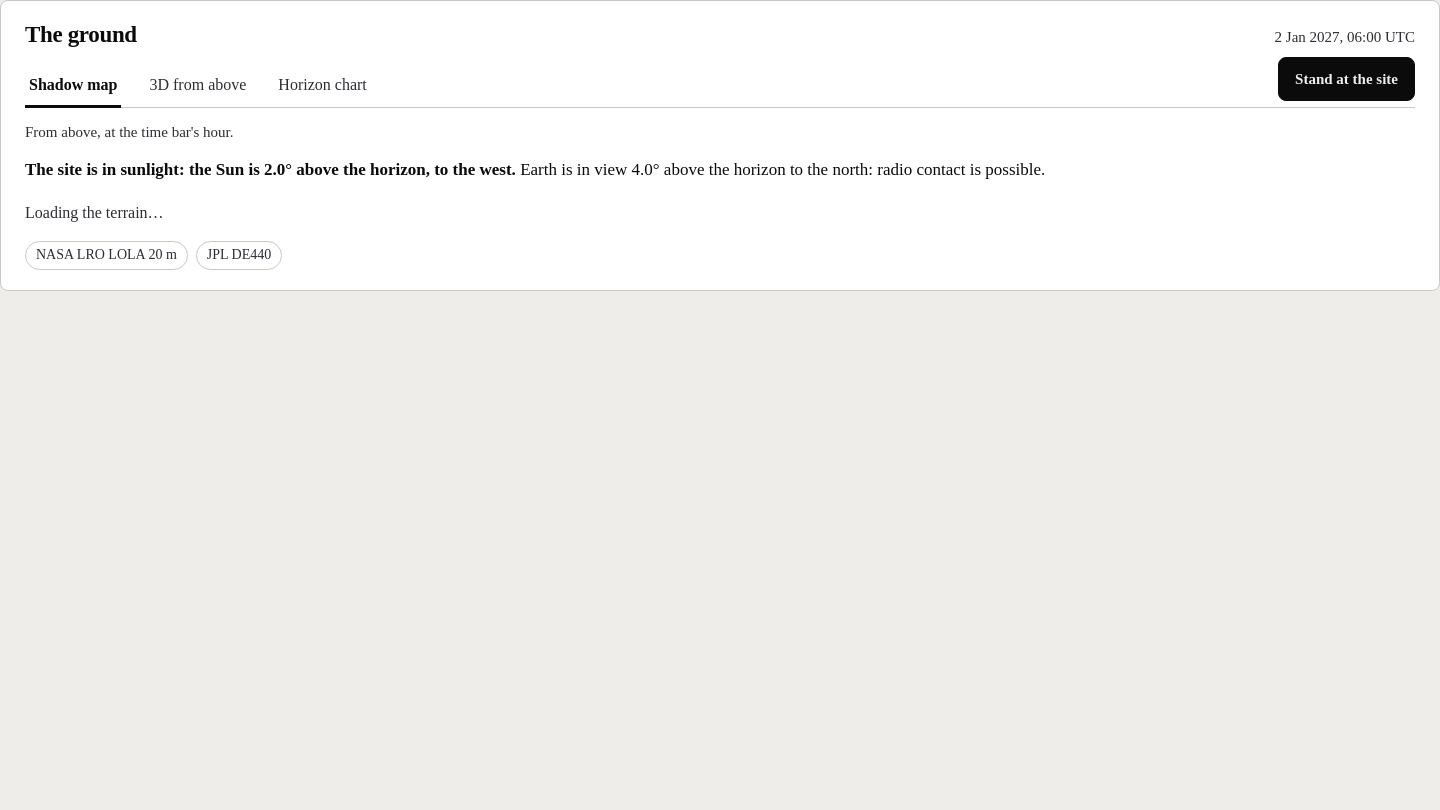
Test case: GroundPanel › says so while the terrain loads, and when the terrain files are missing
Check: the panel named "Shadow map" reads "Loading the terrain…", box [25,204,164,221]
Click the tab "3D from above": (198, 86) [146,64,250,108]
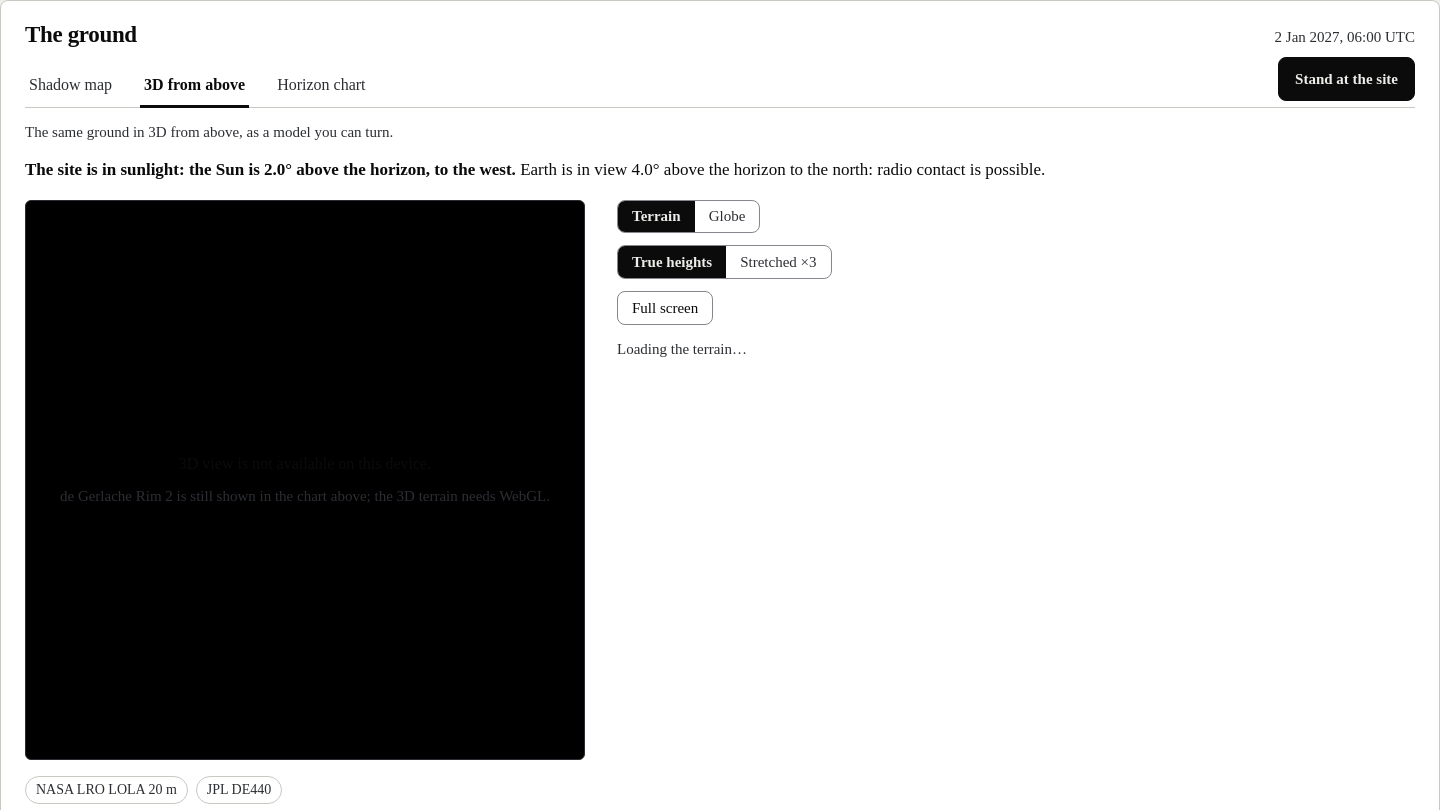
Check: the panel named "3D from above" shows "Loading the terrain…", box [617,341,747,357]
